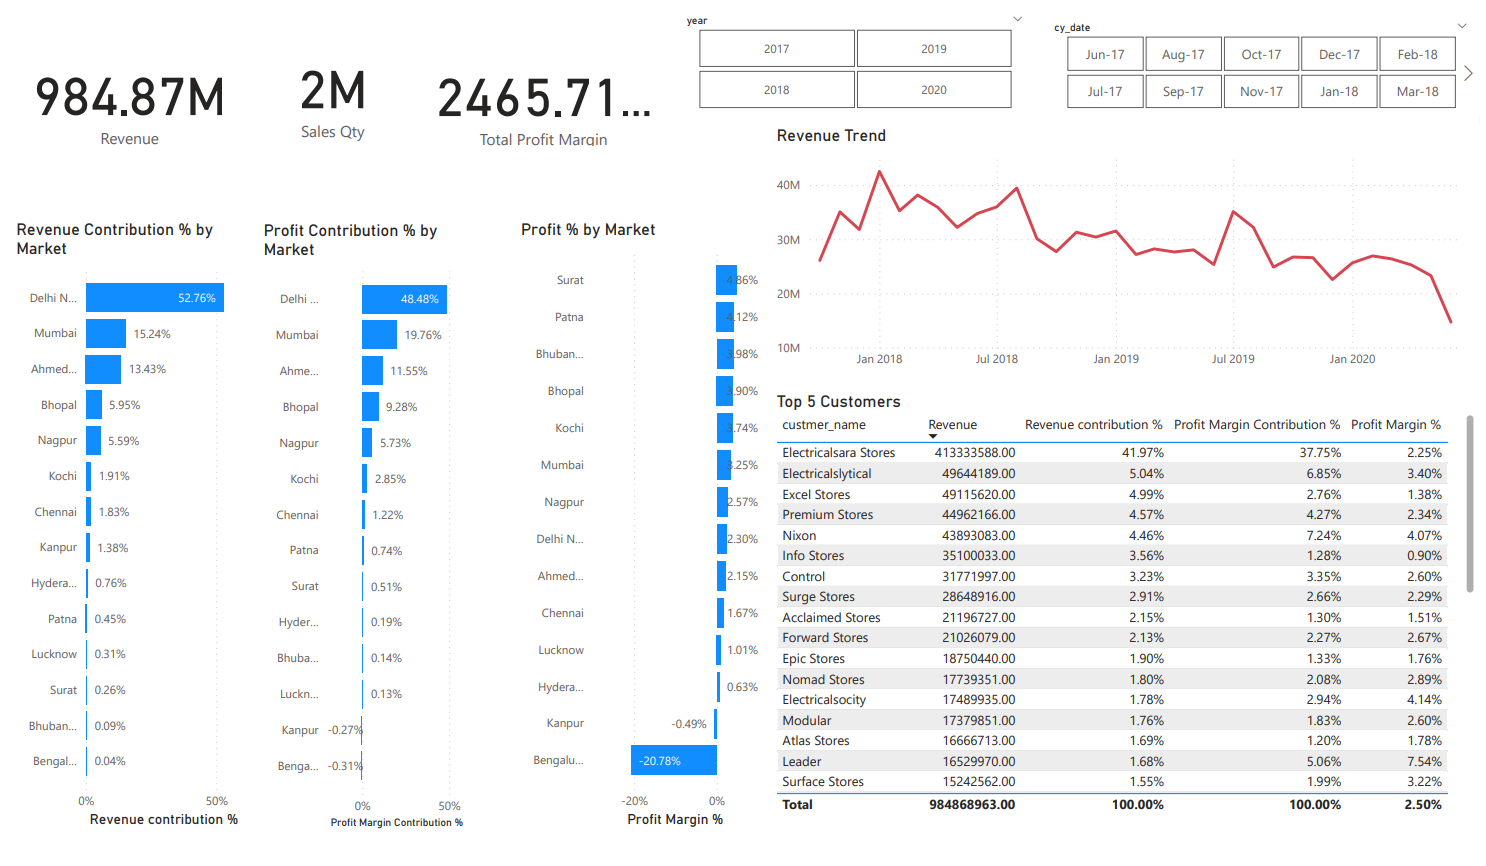

The dashboard page shown, as its layout file describes it:
{"tool":"powerbi","page":{"name":"Profit Analysis","canvas":[1500,900],"ordinal":1},"visuals":[{"type":"card","fields":{"Values":["BaseMeasures.Revenue"]},"box":[0,49.5,241.6,115.9],"z":0},{"type":"card","fields":{"Values":["BaseMeasures.Sales Qty"]},"box":[216.2,42.4,224.6,115.9],"z":1000},{"type":"tableEx","title":"Top 5 Customers","fields":{"Values":["sales customers.custmer_name","BaseMeasures.Revenue","BaseMeasures.Revenue contribution %","BaseMeasures.Profit Margin Contribution %","BaseMeasures.Profit Margin %"]},"box":[777.1,404.1,723.4,436.6],"z":2000},{"type":"slicer","fields":{"Values":["sales date.year"]},"box":[676.8,14.1,368.8,107.4],"z":3000},{"type":"slicer","fields":{"Values":["sales date.cy_date"]},"box":[1052.6,21.2,447.9,100.3],"z":4000},{"type":"barChart","title":"Profit % by Market","fields":{"Category":["sales markets.markets_name"],"Y":["BaseMeasures.Profit Margin %"]},"box":[515.7,228.9,261.4,625.9],"z":5000},{"type":"barChart","title":"Profit Contribution %  by Market","fields":{"Category":["sales markets.markets_name"],"Y":["BaseMeasures.Profit Margin Contribution %"]},"box":[252.9,230.3,228.9,625.9],"z":6000},{"type":"lineChart","title":"Revenue Trend","fields":{"Y":["BaseMeasures.Revenue"],"Category":["sales date.cy_date.Variation.Date Hierarchy.Year","sales date.cy_date.Variation.Date Hierarchy.Quarter","sales date.cy_date.Variation.Date Hierarchy.Month","sales date.cy_date.Variation.Date Hierarchy.Day"]},"box":[777.1,132.8,723.4,257.1],"z":7000},{"type":"card","fields":{"Values":["BaseMeasures.Total Profit Margin"]},"box":[425.3,57.9,237.4,100.3],"z":8000},{"type":"barChart","title":"Revenue Contribution % by Market","fields":{"Category":["sales markets.markets_name"],"Y":["BaseMeasures.Revenue contribution %"]},"box":[0,228.9,252.9,625.9],"z":9000}]}

Visuals, with their boxes in screenshot pixels (x1, y1, x2, y2), scaled from the page's 1500x900 canvas onto the 1486x866 screenshot:
card - BaseMeasures.Revenue: 0, 48, 239, 159
card - BaseMeasures.Sales Qty: 214, 41, 437, 152
"Top 5 Customers" tableEx: 770, 389, 1485, 809
slicer - sales date.year: 670, 14, 1036, 117
slicer - sales date.cy_date: 1043, 20, 1485, 117
"Profit % by Market" barChart: 511, 220, 770, 823
"Profit Contribution %  by Market" barChart: 251, 222, 477, 824
"Revenue Trend" lineChart: 770, 128, 1485, 375
card - BaseMeasures.Total Profit Margin: 421, 56, 657, 152
"Revenue Contribution % by Market" barChart: 0, 220, 251, 823
